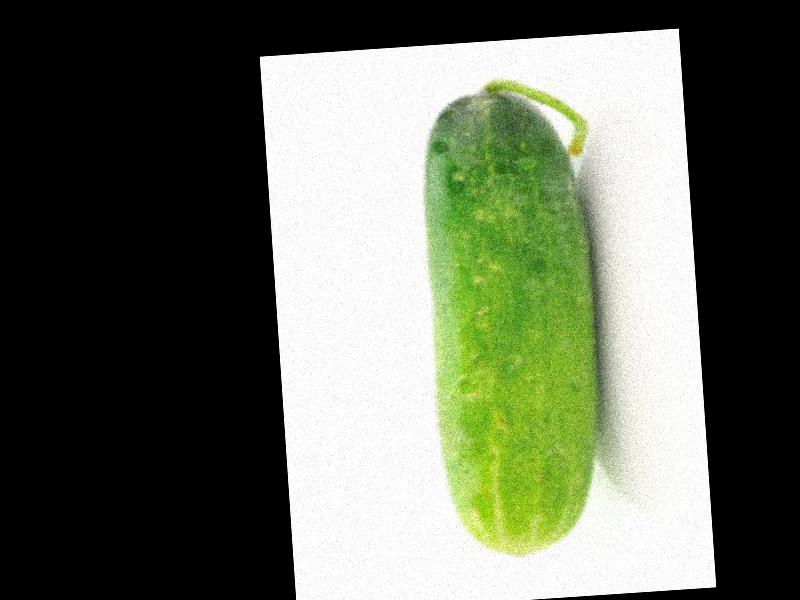Cucumber: (416, 77, 616, 566)
